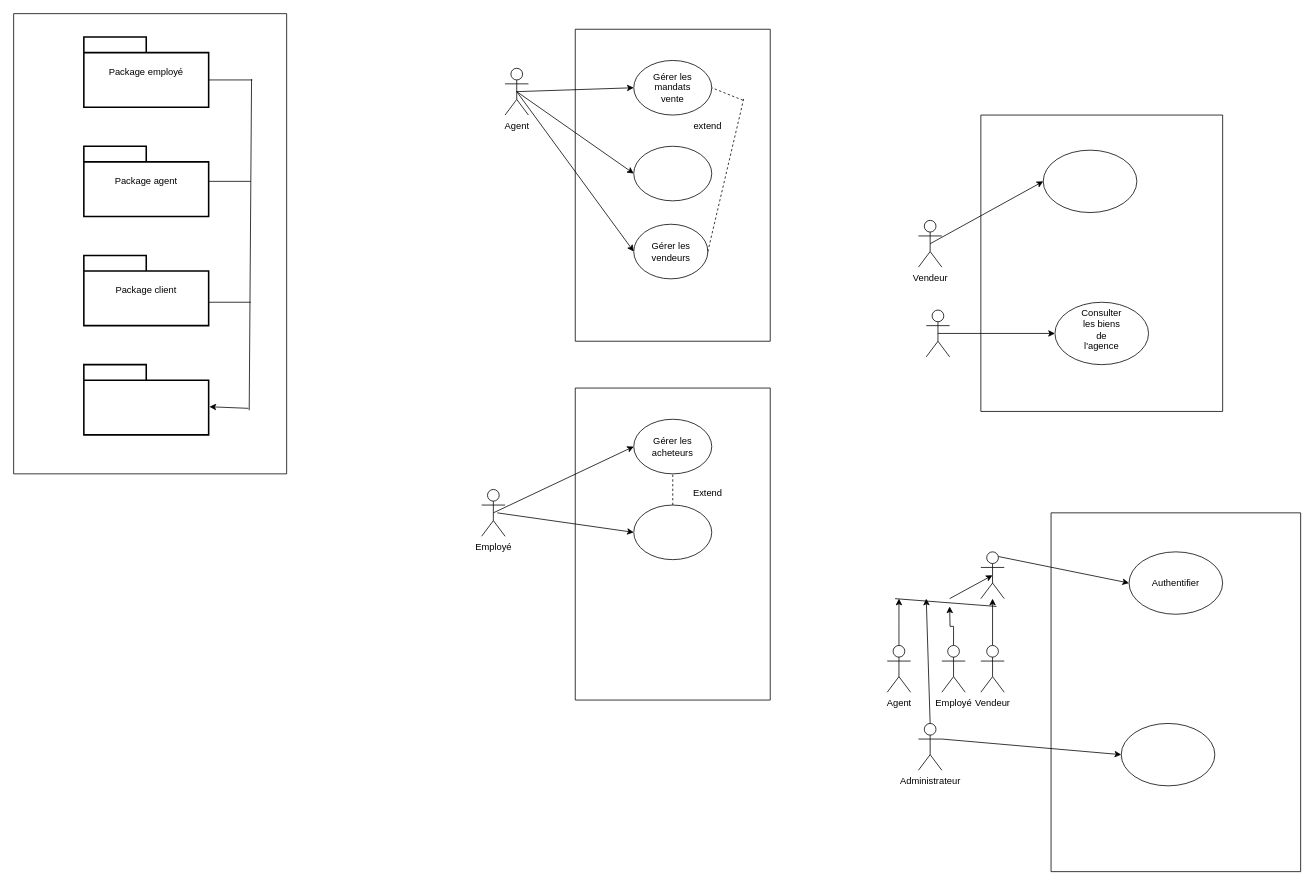
Image size: 1314x885. Some labels were removed from this diagram. Here are the shapes that lost their labels. From the top down, the centre of each, then its label:
At point 672,173: "Gérer les propositions d'achats".
At point 1089,181: "Consulter ses biens".
At point 937,333: "Client anonyme".
At point 146,399: "Package administration".
At point 672,532: "Gérer les visites".
At point 992,575: "Utilisateur authentifié".
At point 1167,754: "Gérer les utilisateurs".
